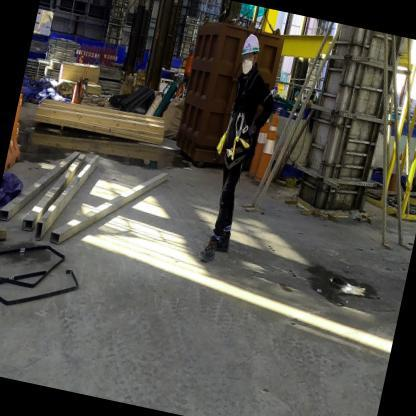Helmet: (238, 34, 268, 61)
safety-shoe: (193, 230, 223, 271)
